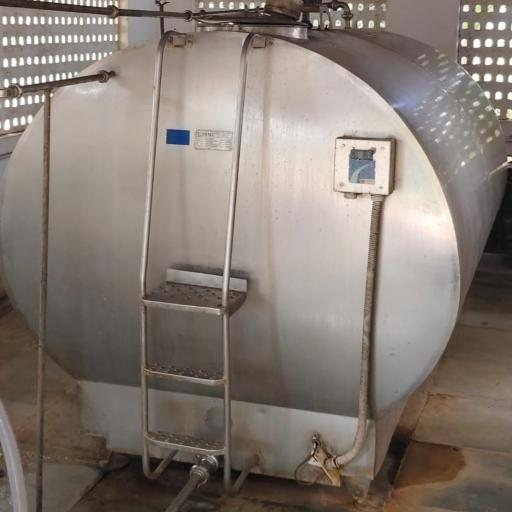silo: (1, 4, 508, 492)
